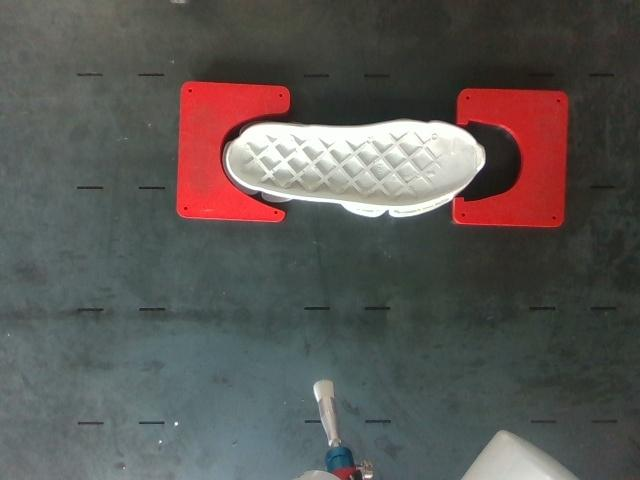shoes: (228, 122, 481, 206)
